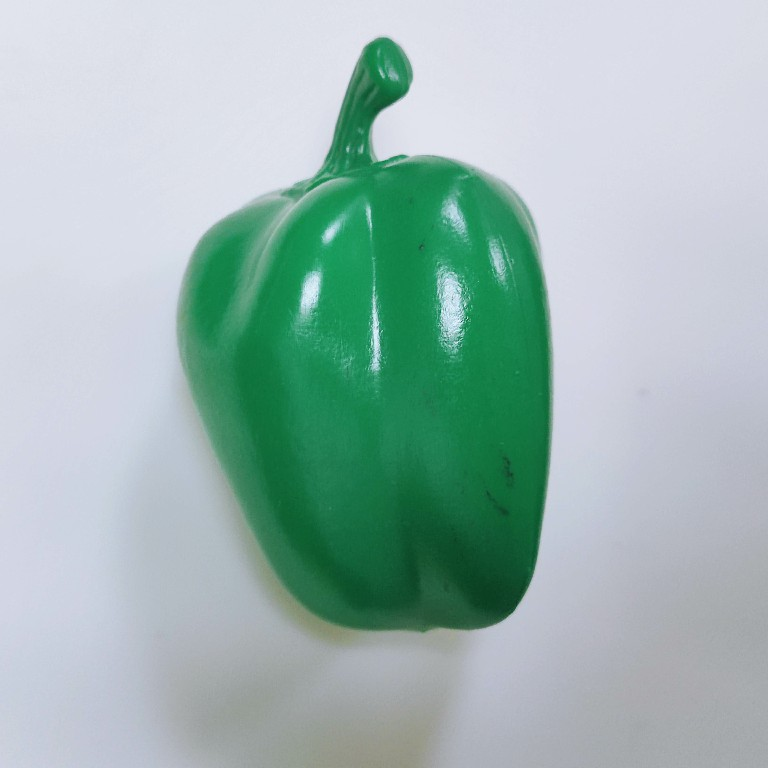fruit_pepper: (170, 32, 559, 639)
